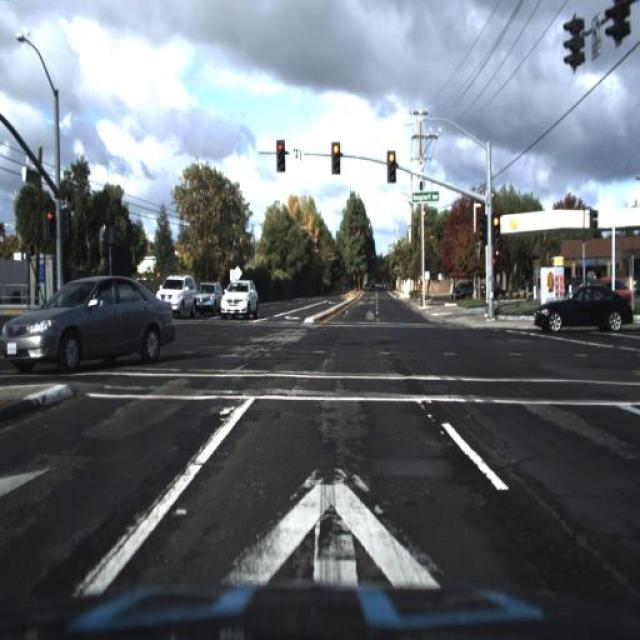car: (0, 274, 175, 378), (524, 280, 636, 344), (218, 274, 258, 321), (159, 274, 192, 314), (607, 266, 639, 300), (198, 281, 220, 317)
trafficLight-RedLeft: (332, 142, 342, 173), (488, 214, 498, 244), (387, 148, 398, 173)
trafficLight-Yellow: (40, 202, 54, 243), (276, 134, 286, 166)
